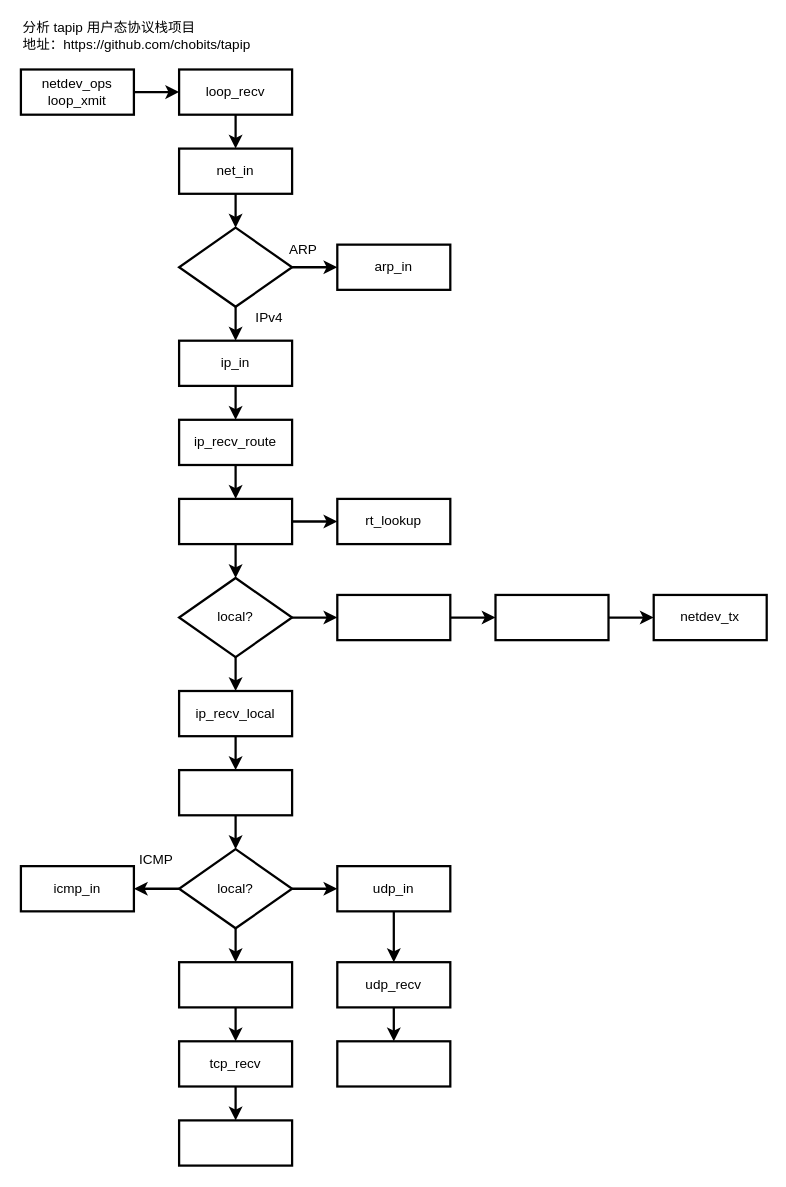
Image size: 786x1187. Some labels were removed from this diagram. Here are the shapes that lost their labels. From the top down, the centre of each, then its label:
the point at 235,266: pk_pro
the point at 235,521: rt_input
the point at 393,617: ip_forward
the point at 551,617: ip_send_dev
the point at 235,792: raw_in
the point at 235,984: tcp_in
the point at 393,1063: sock_ops recv_notify
the point at 235,1142: tcp_process
